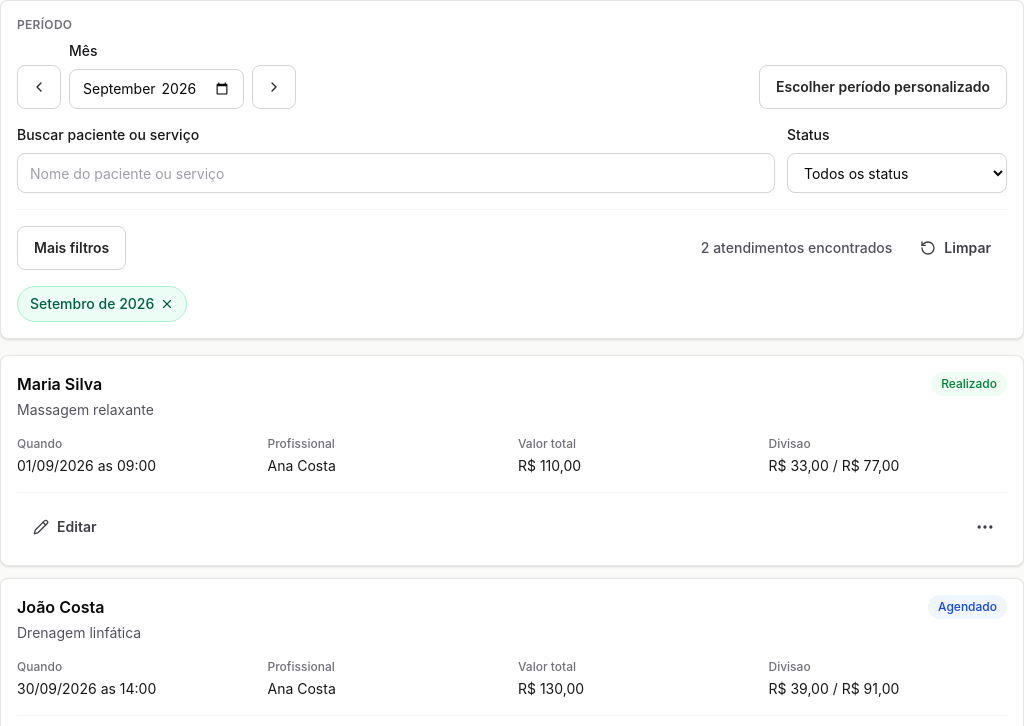
Test case: appointments mobile filters › expands secondary filters, exposes chips and clears every filter
Step 1. Click the button "Mais filtros" → (72,248), box x1=17 y1=226 x2=126 y2=270
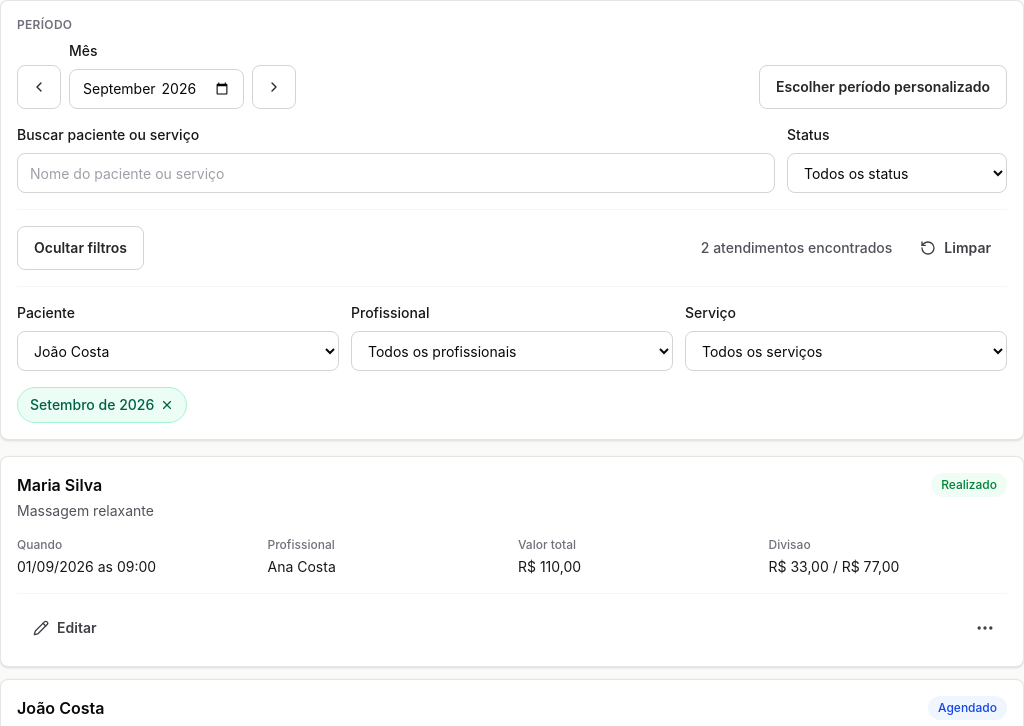
Step 2. Select "João Costa" in the dropdown with id "appointment-patient" → (178,351), box x1=17 y1=331 x2=339 y2=371
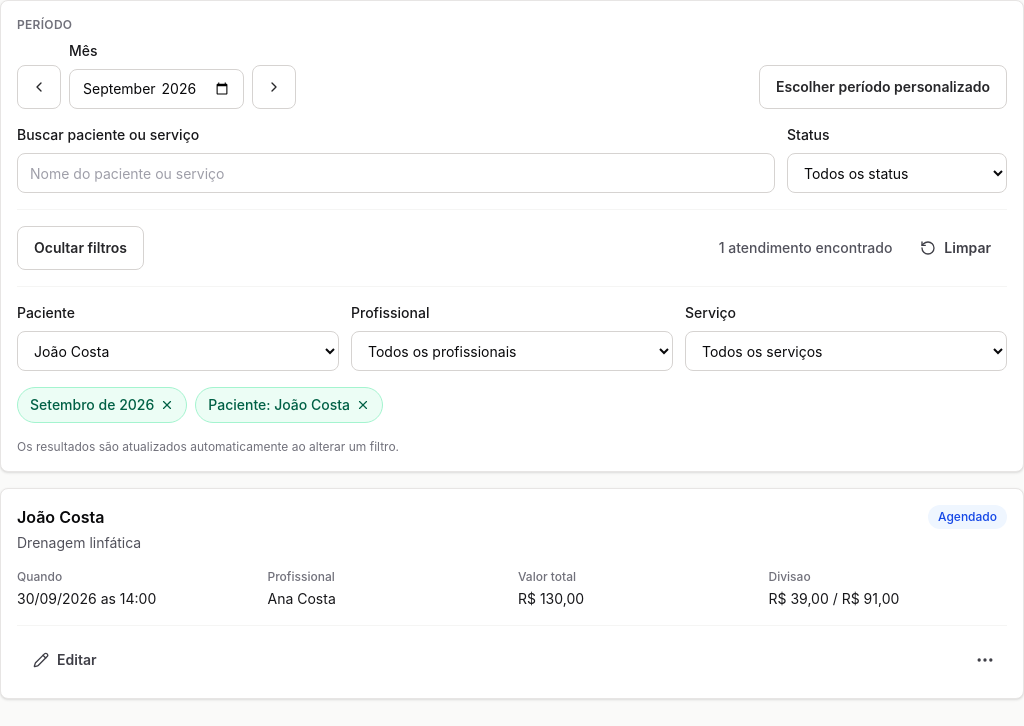
Expected: the button with aria-label "Remover filtro Paciente: João Costa" is shown, x1=195 y1=387 x2=383 y2=423
Expected: the text "1 atendimento encontrado" is shown, x1=719 y1=238 x2=892 y2=258
Step 3. Click the button "Limpar" → (956,248), box x1=904 y1=226 x2=1007 y2=270
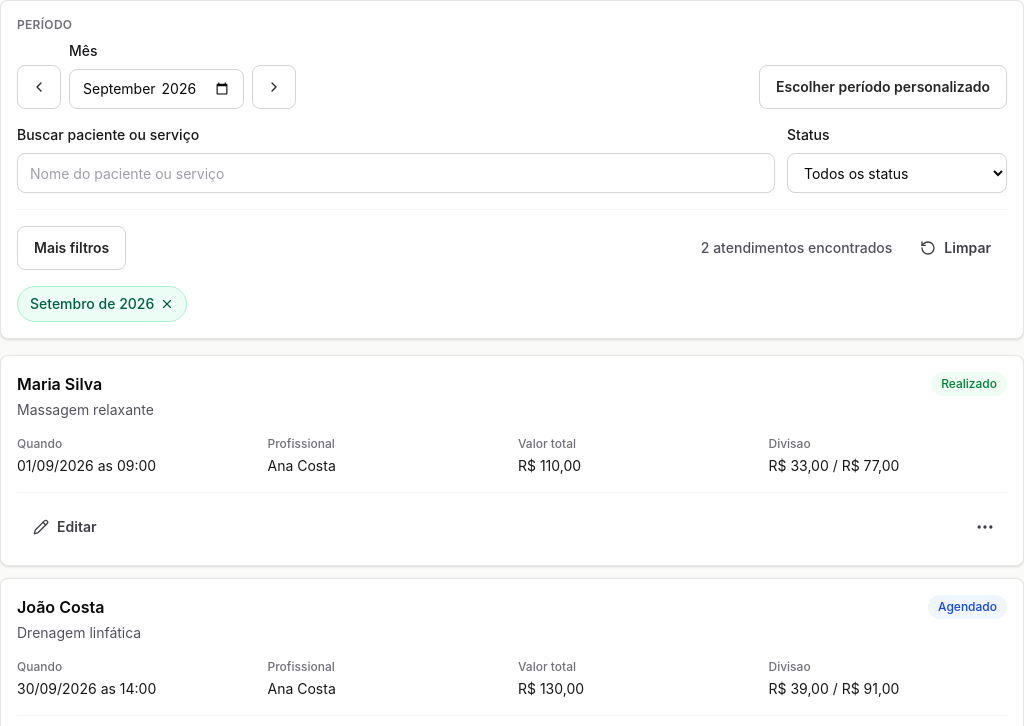
Expected: the element with id "appointment-more-filters" is gone
Step 4. Click the button "Mais filtros" → (72,248), box x1=17 y1=226 x2=126 y2=270
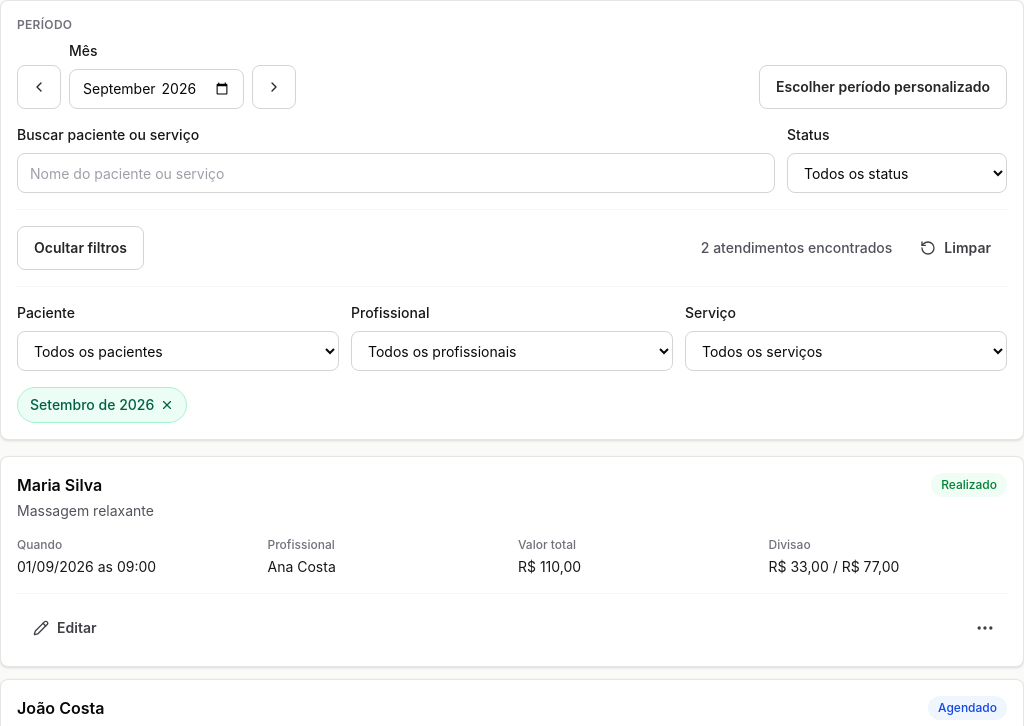
Expected: the search field with id "appointment-search" is empty, x1=17 y1=153 x2=775 y2=193
Expected: the text "2 atendimentos encontrados" is shown, x1=701 y1=238 x2=892 y2=258
Expected: the dropdown with id "appointment-patient" shows "Todos os pacientes", x1=17 y1=331 x2=339 y2=371
